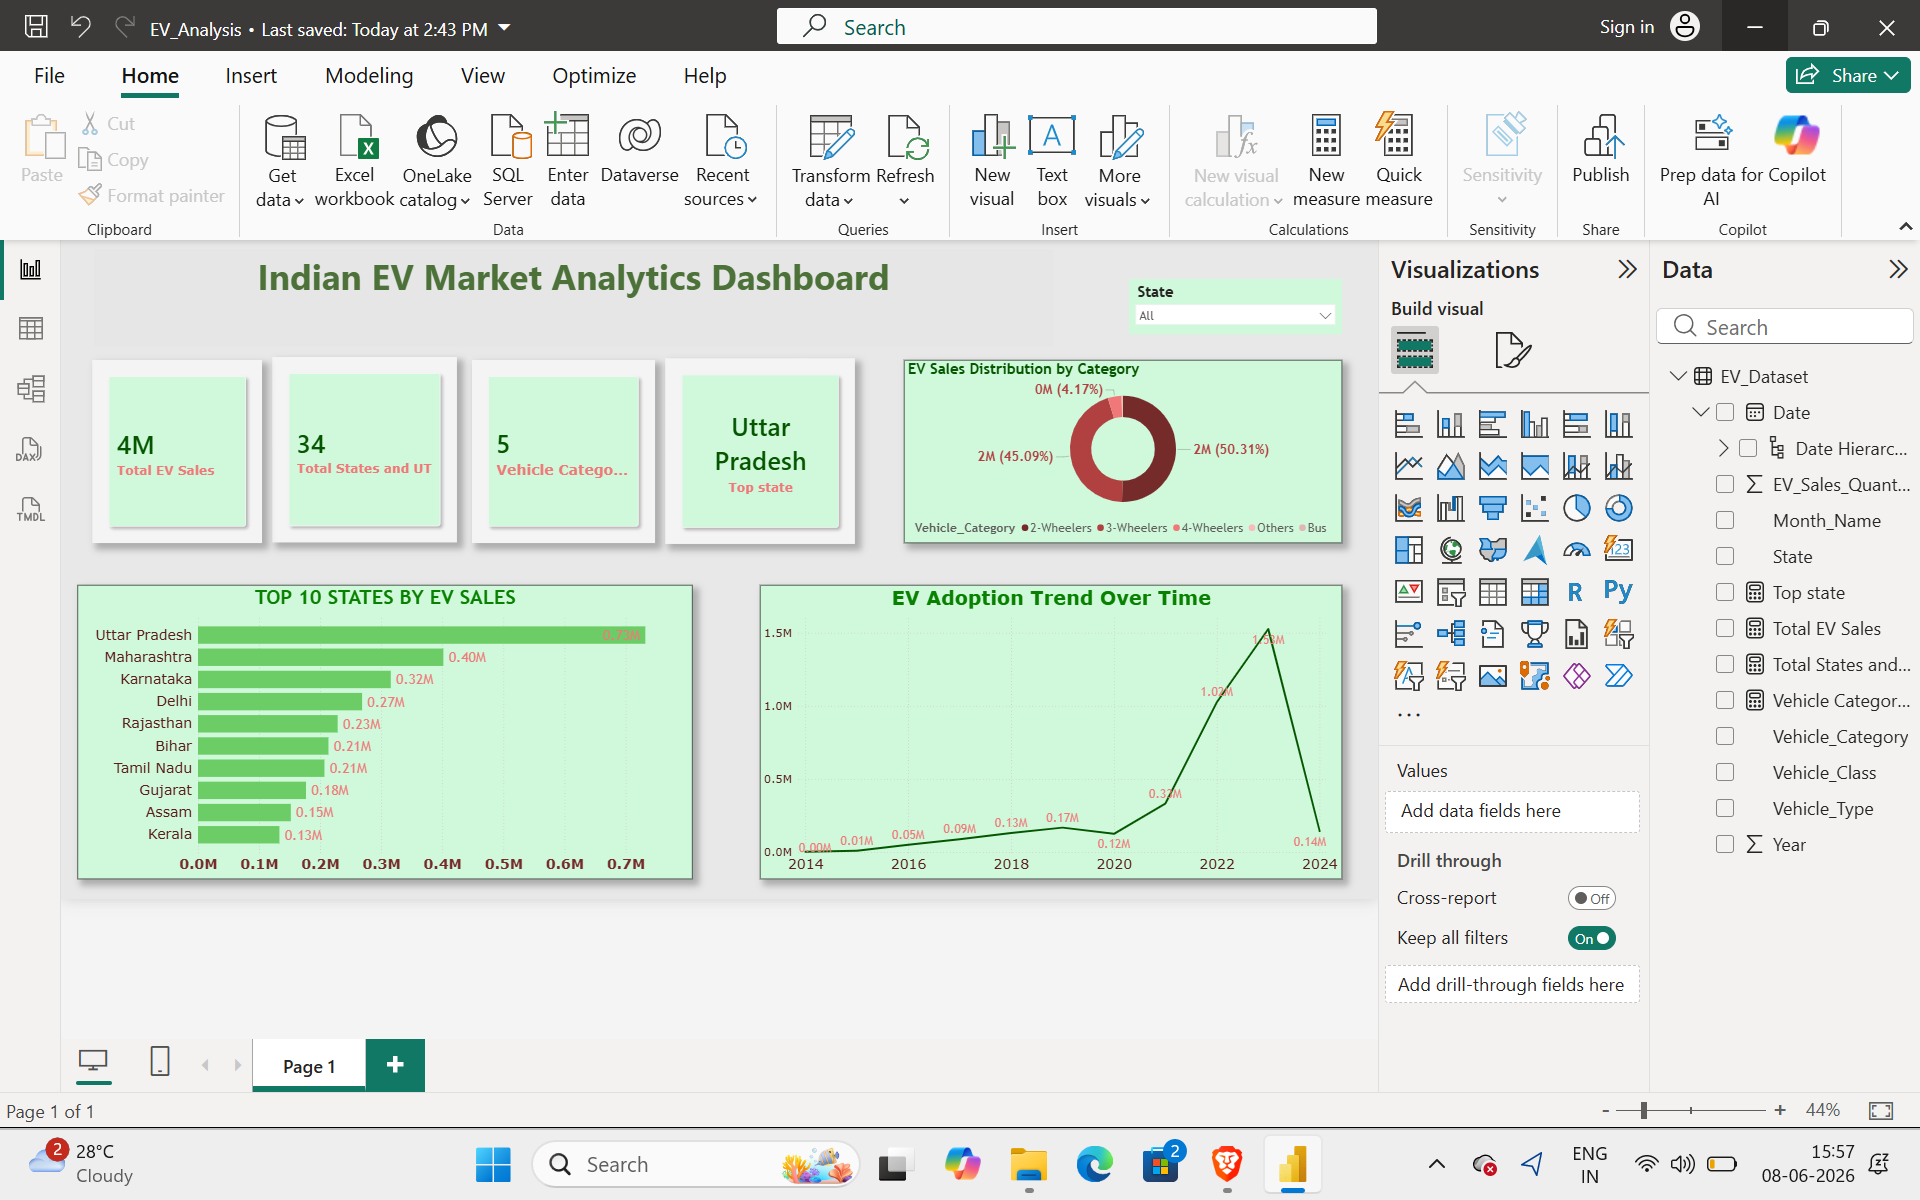

The page's visual inventory and layout, read from the dashboard file:
{"tool":"powerbi","page":{"name":"Page 1","canvas":[2000,1000],"ordinal":0},"visuals":[{"type":"cardVisual","fields":{"Data":["EV_Dataset.Total states"]},"box":[321,178.4,279.7,281.6],"z":0},{"type":"cardVisual","fields":{"Data":["EV_Dataset.Vehicle Categories"]},"box":[623.3,182.1,277.9,277.9],"z":1000},{"type":"clusteredBarChart","title":"TOP 10 STATES BY EV SALES","fields":{"Category":["EV_Dataset.State"],"Y":["Sum(EV_Dataset.EV_Sales_Quantity)"]},"box":[25.1,523.9,933.9,446.5],"z":2000},{"type":"lineChart","title":"EV Adoption Trend Over Time","fields":{"Category":["EV_Dataset.Year"],"Y":["Sum(EV_Dataset.EV_Sales_Quantity)"]},"box":[1061.5,523.9,883.8,446.5],"z":3000},{"type":"donutChart","title":"EV Sales Distribution by Category","fields":{"Category":["EV_Dataset.Vehicle_Category"],"Y":["Sum(EV_Dataset.EV_Sales_Quantity)"]},"box":[1280.2,182.2,665.1,277.9],"z":4000},{"type":"textbox","box":[49,14,1456.8,147.1],"z":5000},{"type":"slicer","fields":{"Values":["EV_Dataset.State"]},"box":[1621.9,59.2,323.5,84.3],"z":6000},{"type":"cardVisual","fields":{"Data":["EV_Dataset.Top state"]},"box":[918,180.2,287.2,281.6],"z":7000},{"type":"cardVisual","fields":{"Data":["EV_Dataset.Total EV Sales"]},"box":[48.8,182.1,257.2,277.9],"z":8000}]}

Visuals, with their boxes on the page's 2000x1000 design canvas (x1, y1, x2, y2). These are canvas units, not pixel positions in the 1920x1200 screenshot, which may show the page scaled, cropped or inside an application window:
cardVisual - EV_Dataset.Total states: 321, 178, 601, 460
cardVisual - EV_Dataset.Vehicle Categories: 623, 182, 901, 460
"TOP 10 STATES BY EV SALES" clusteredBarChart: 25, 524, 959, 970
"EV Adoption Trend Over Time" lineChart: 1062, 524, 1945, 970
"EV Sales Distribution by Category" donutChart: 1280, 182, 1945, 460
textbox: 49, 14, 1506, 161
slicer - EV_Dataset.State: 1622, 59, 1945, 144
cardVisual - EV_Dataset.Top state: 918, 180, 1205, 462
cardVisual - EV_Dataset.Total EV Sales: 49, 182, 306, 460
